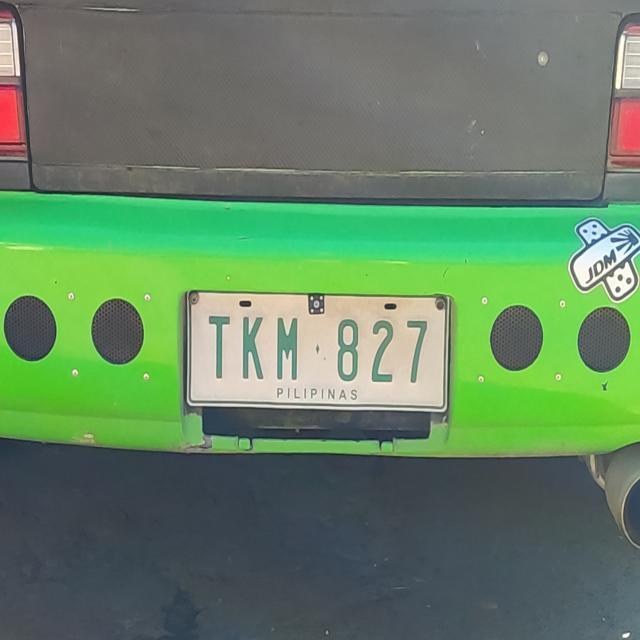LicensePlate: (179, 280, 455, 420)
